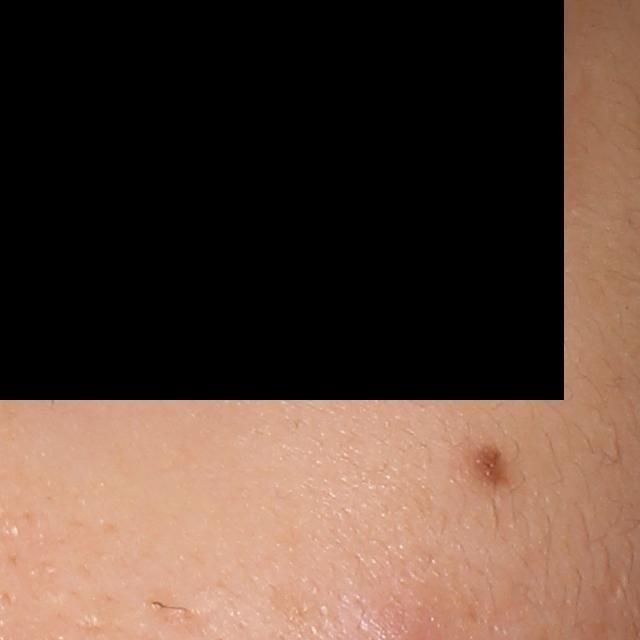nevus: (473, 441, 510, 493)
